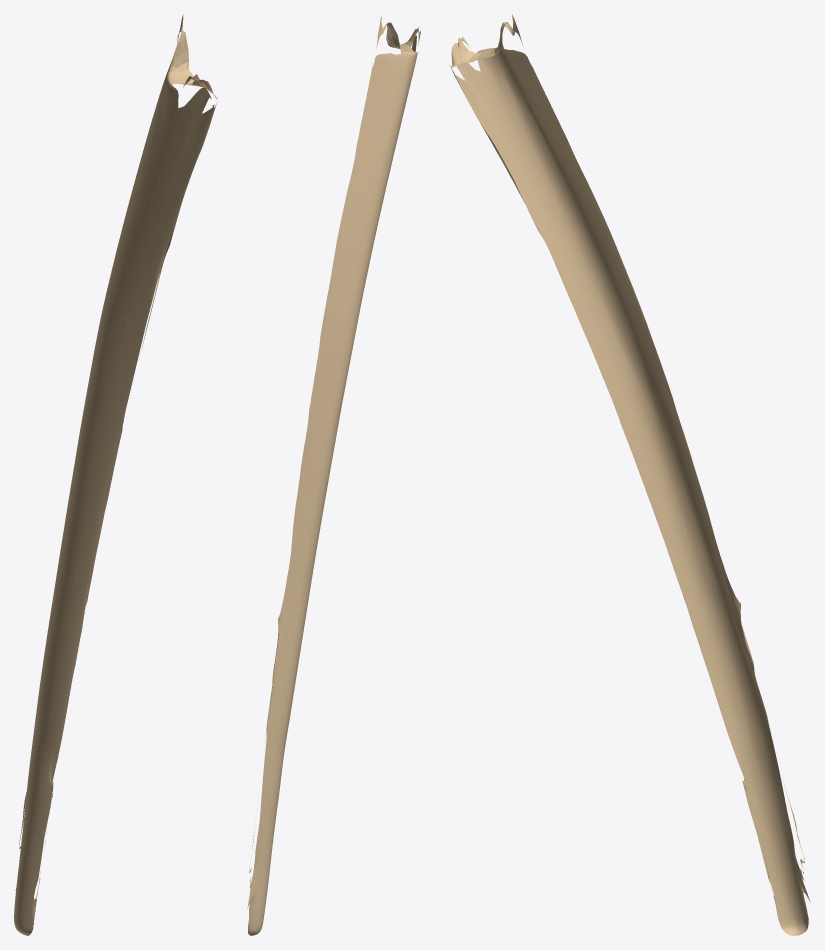
The model's file is midollo_spinale_interno.glb.
3 renders of one model, left to right at view 1: azimuth 30°, elevation 25°; view 2: azimuth 150°, elevation 25°; view 3: azimuth 270°, elevation 25°, orthographic. The views are drawn at different scales.
Parts seen in each view (by area): view 1: spinal cord; view 2: spinal cord; view 3: spinal cord.
Boxes of the visible parts, x1=… form: spinal cord: x1=14, y1=15, x2=217, y2=935; spinal cord: x1=247, y1=15, x2=420, y2=935; spinal cord: x1=449, y1=14, x2=810, y2=935.
Size of the model in its own units: 1.09 by 37.04 by 13.18.
